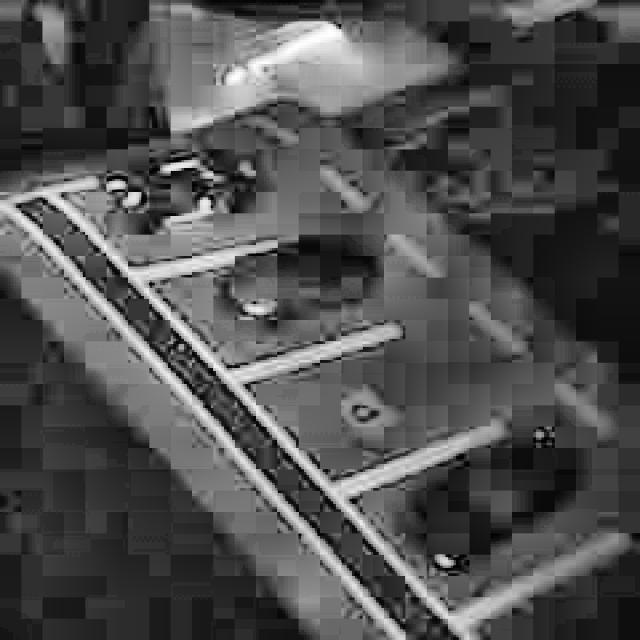car: (394, 429, 579, 579), (215, 228, 381, 334), (86, 144, 262, 234)
